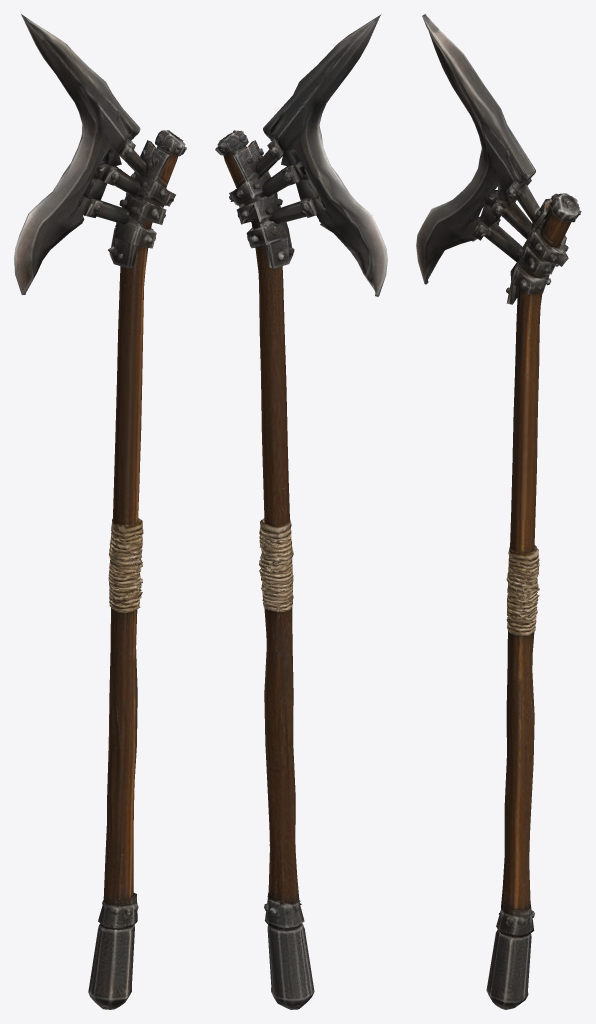
The picture shows the model from 3 angles, left to right: view 1: azimuth 30°, elevation 25°; view 2: azimuth 150°, elevation 25°; view 3: azimuth 330°, elevation 25°; orthographic projection. The views are drawn at different scales.
Bounding box in the file's own units: 0.1655 × 0.9502 × 0.0405.
1 material, 1 textured.
